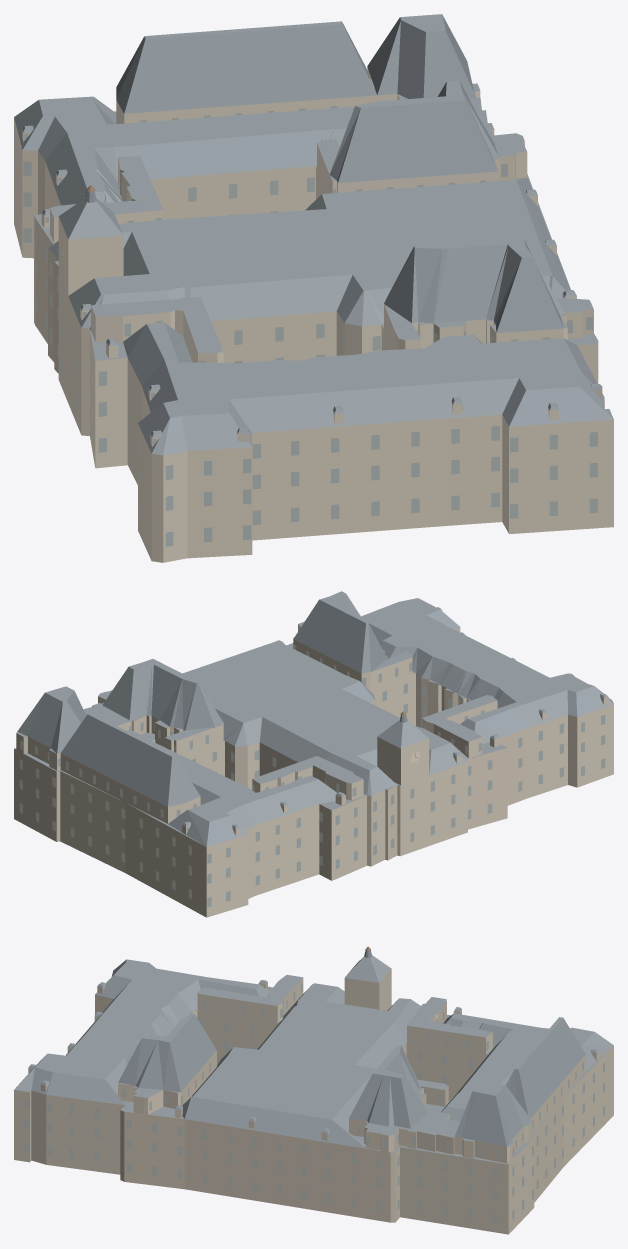
3 views of the same model, one above another, from view 1: azimuth 30°, elevation 25°; view 2: azimuth 150°, elevation 25°; view 3: azimuth 270°, elevation 25° (orthographic). The views are drawn at different scales.
Visible parts, largest first — view 1: roof, stone, window; view 2: roof, stone, window; view 3: roof, stone, window.
Boxes of the visible parts, <box> form: roof: <box>14,14,613,455</box>; stone: <box>14,67,613,562</box>; window: <box>14,104,597,546</box>; roof: <box>14,591,613,847</box>; stone: <box>14,610,613,917</box>; window: <box>19,630,605,907</box>; roof: <box>14,950,613,1164</box>; stone: <box>14,969,613,1234</box>; window: <box>24,983,604,1222</box>.
Size of the model in its own units: 126 by 40 by 163.
